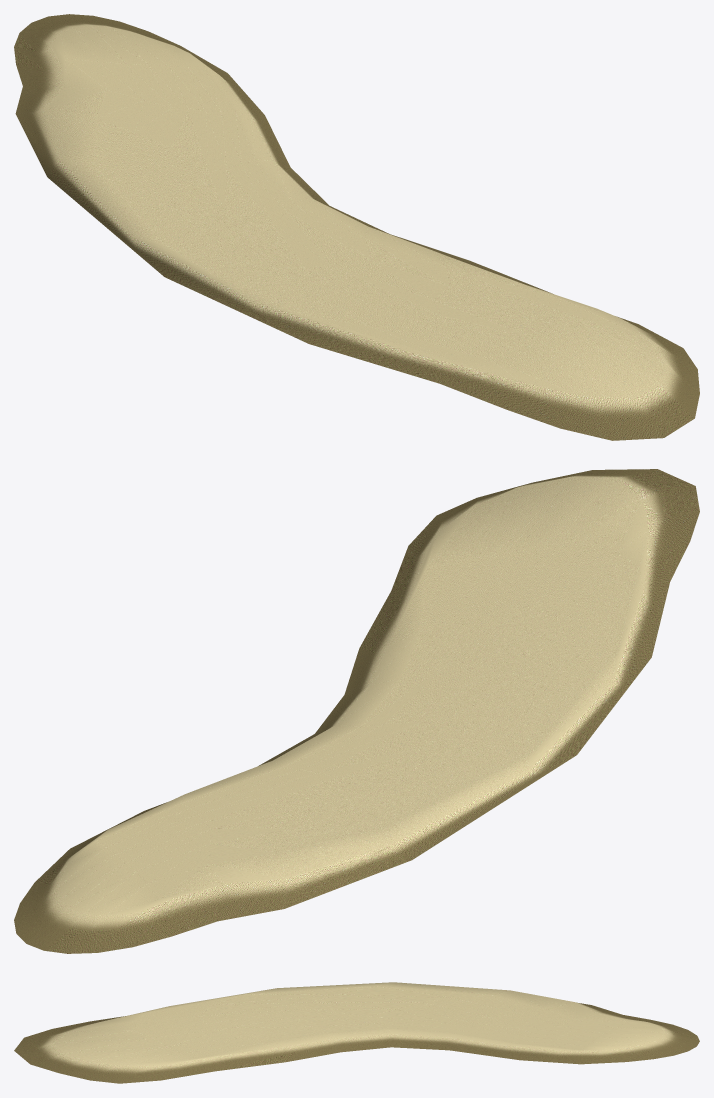
Rendered from island3.fbx.
The picture shows the model from 3 angles, top to bottom: view 1: azimuth 30°, elevation 25°; view 2: azimuth 150°, elevation 25°; view 3: azimuth 270°, elevation 25°; orthographic projection. The views are drawn at different scales.
Visible parts, largest first — view 1: Plane.001; view 2: Plane.001; view 3: Plane.001.
Boxes of the visible parts, box(x1,y1,x2,y2) form: Plane.001: box(14, 14, 699, 440); Plane.001: box(14, 469, 699, 953); Plane.001: box(14, 982, 699, 1083).
Bounding box in the file's own units: 4755 × 290 × 14916.
1 material, 1 textured.
